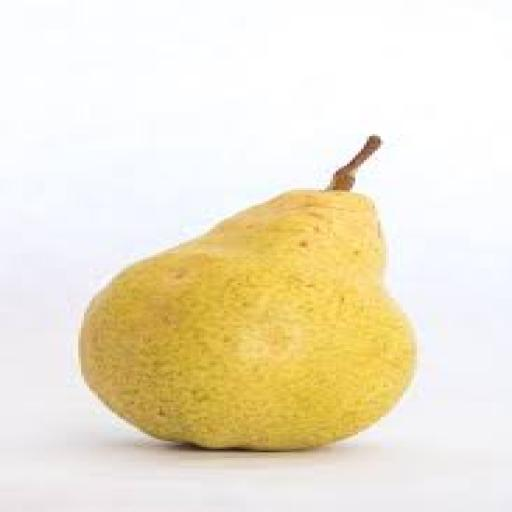Pear: (82, 138, 414, 450)
